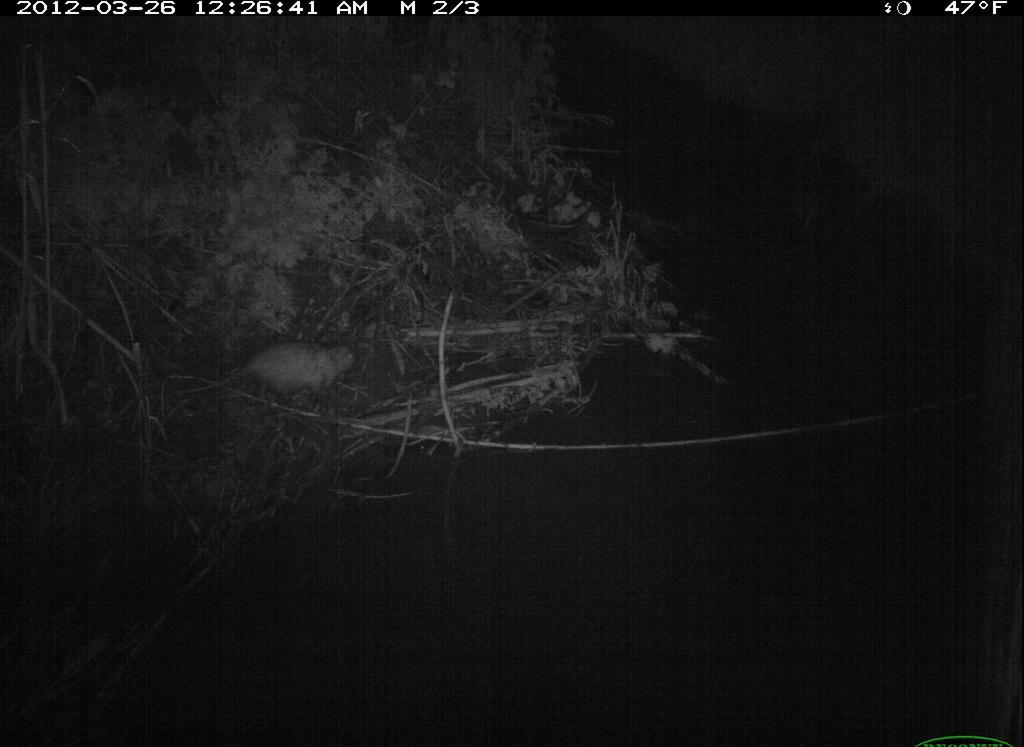opossum: (176, 341, 367, 408)
